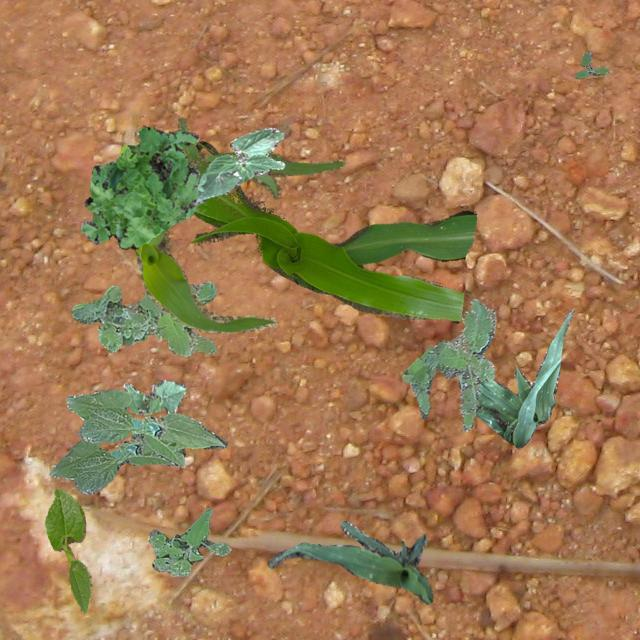crop: (191, 140, 475, 322), (133, 116, 344, 332), (457, 308, 573, 447), (266, 520, 432, 604), (65, 388, 226, 466), (48, 432, 174, 494), (194, 126, 284, 204), (44, 488, 90, 612), (122, 378, 186, 414)
weed: (80, 124, 198, 248), (402, 298, 496, 430), (70, 280, 216, 356), (146, 508, 230, 576), (574, 48, 608, 78)
